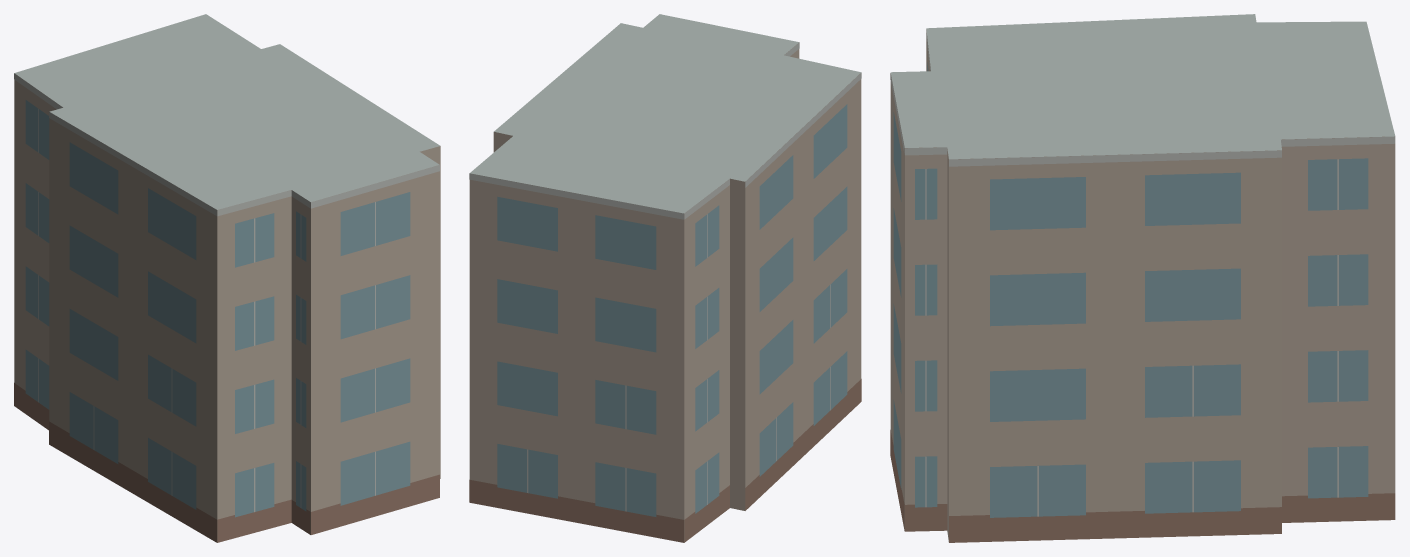
File: survey-upis-32919673.glb
3 renders of one model, left to right at view 1: azimuth 30°, elevation 25°; view 2: azimuth 150°, elevation 25°; view 3: azimuth 270°, elevation 25°, orthographic. The views are drawn at different scales.
Parts seen in each view (by area): view 1: survey-upis-32919673.tmp; view 2: survey-upis-32919673.tmp; view 3: survey-upis-32919673.tmp.
Boxes of the visible parts, <box> form: survey-upis-32919673.tmp: <box>14,14,440,542</box>; survey-upis-32919673.tmp: <box>469,14,861,542</box>; survey-upis-32919673.tmp: <box>890,14,1395,542</box>.
Size of the model in its own units: 10.33 by 12.7 by 15.16.
